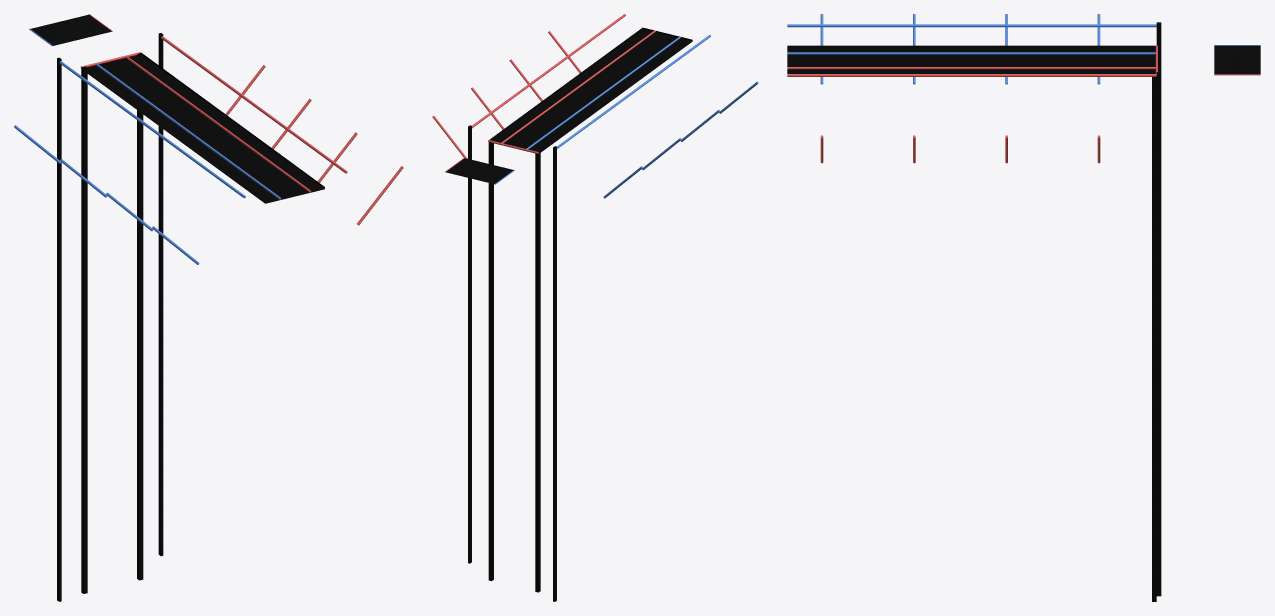
The model's file is PlatformV2.fbx.
The picture shows the model from 3 angles, left to right: view 1: azimuth 30°, elevation 25°; view 2: azimuth 150°, elevation 25°; view 3: azimuth 270°, elevation 25°; orthographic projection. The views are drawn at different scales.
Parts seen in each view (by area): view 1: Lane, OuterLane, PlayerPlace, BG_GlowLeft, BG_GlowRight, OuterLane_GlowLeft, OuterLane_GlowRight; view 2: Lane, OuterLane, PlayerPlace, BG_GlowLeft, BG_GlowRight, OuterLane_GlowLeft, OuterLane_GlowRight; view 3: Lane, OuterLane, OuterLane_GlowRight, PlayerPlace, OuterLane_GlowLeft.
Part boxes in pixels (<box>): Lane: <box>80,52,324,593</box>; OuterLane: <box>57,33,163,601</box>; PlayerPlace: <box>31,14,111,45</box>; BG_GlowLeft: <box>225,65,403,225</box>; BG_GlowRight: <box>14,125,199,264</box>; OuterLane_GlowLeft: <box>161,36,347,173</box>; OuterLane_GlowRight: <box>59,61,245,198</box>; Lane: <box>488,27,692,592</box>; OuterLane: <box>468,125,556,601</box>; PlayerPlace: <box>446,158,513,184</box>; BG_GlowLeft: <box>432,31,581,158</box>; BG_GlowRight: <box>603,81,758,198</box>; OuterLane_GlowLeft: <box>472,14,625,128</box>; OuterLane_GlowRight: <box>557,35,710,148</box>; Lane: <box>787,45,1157,601</box>; OuterLane: <box>1156,22,1161,596</box>; OuterLane_GlowRight: <box>787,24,1156,27</box>; PlayerPlace: <box>1214,45,1260,74</box>; OuterLane_GlowLeft: <box>787,74,1156,76</box>.
Size of the model in its own units: 12.61 by 26 by 20.5.
14 materials, 4 textured.
